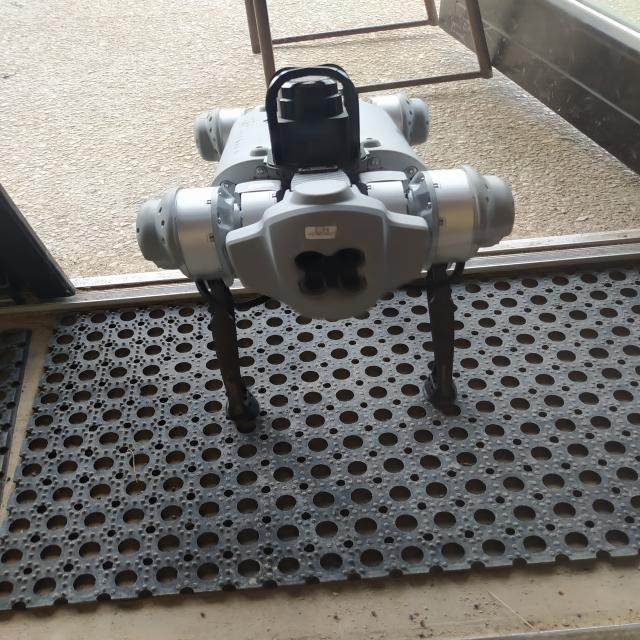unitree-go1-robot: (127, 56, 539, 443)
